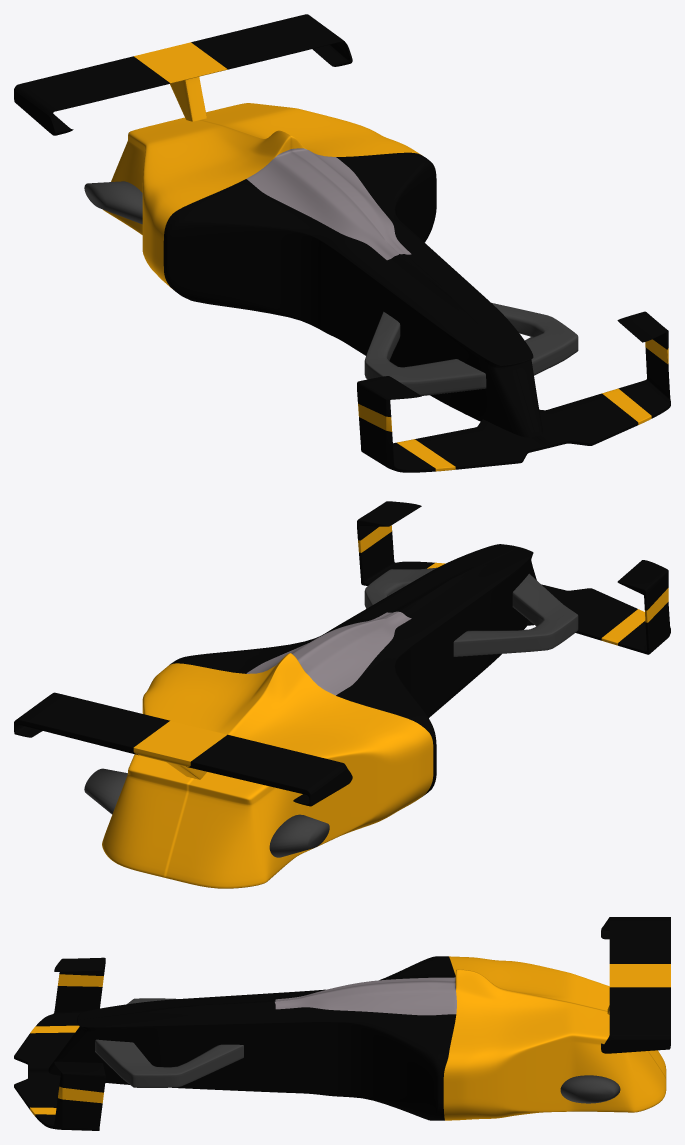
File: F1ConceptBody.fbx
3 renders of one model, top to bottom at view 1: azimuth 30°, elevation 25°; view 2: azimuth 150°, elevation 25°; view 3: azimuth 270°, elevation 25°, orthographic. The views are drawn at different scales.
Visible parts, largest first — view 1: Cube, Cube.002, Cube.001, Cube.003, Cylinder.001; view 2: Cube, Cube.001, Cube.002, Cube.003, Cylinder.001; view 3: Cube, Cube.002, Cube.001, Cube.003, Cylinder.001.
Boxes of the visible parts, <box> form: Cube: <box>103,103,542,437</box>; Cube.002: <box>357,311,670,472</box>; Cube.001: <box>14,14,352,135</box>; Cube.003: <box>364,303,578,395</box>; Cylinder.001: <box>84,181,142,224</box>; Cube: <box>102,544,536,888</box>; Cube.001: <box>14,692,352,806</box>; Cube.002: <box>357,501,670,654</box>; Cube.003: <box>364,567,578,656</box>; Cylinder.001: <box>84,768,329,857</box>; Cube: <box>48,956,666,1120</box>; Cube.002: <box>14,957,105,1130</box>; Cube.001: <box>601,917,670,1053</box>; Cube.003: <box>95,998,243,1087</box>; Cylinder.001: <box>560,1075,620,1103</box>.
Size of the model in its own units: 85.84 by 459 by 200.
